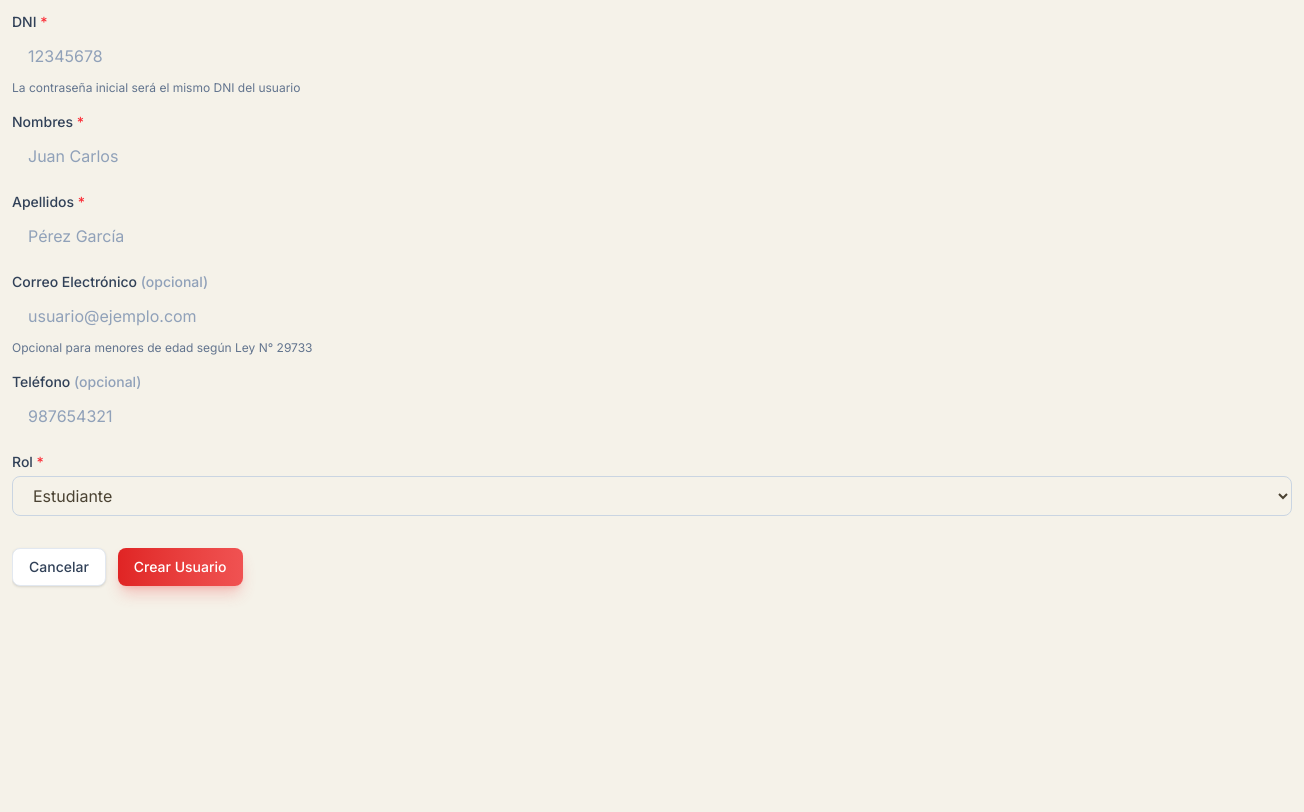
Test: UserForm Component › should validate phone with 9 digits
// Teléfono inválido
Type "12345" into the field labelled "Teléfono (opcional)" at (652, 416), box 12,396 -> 1292,436
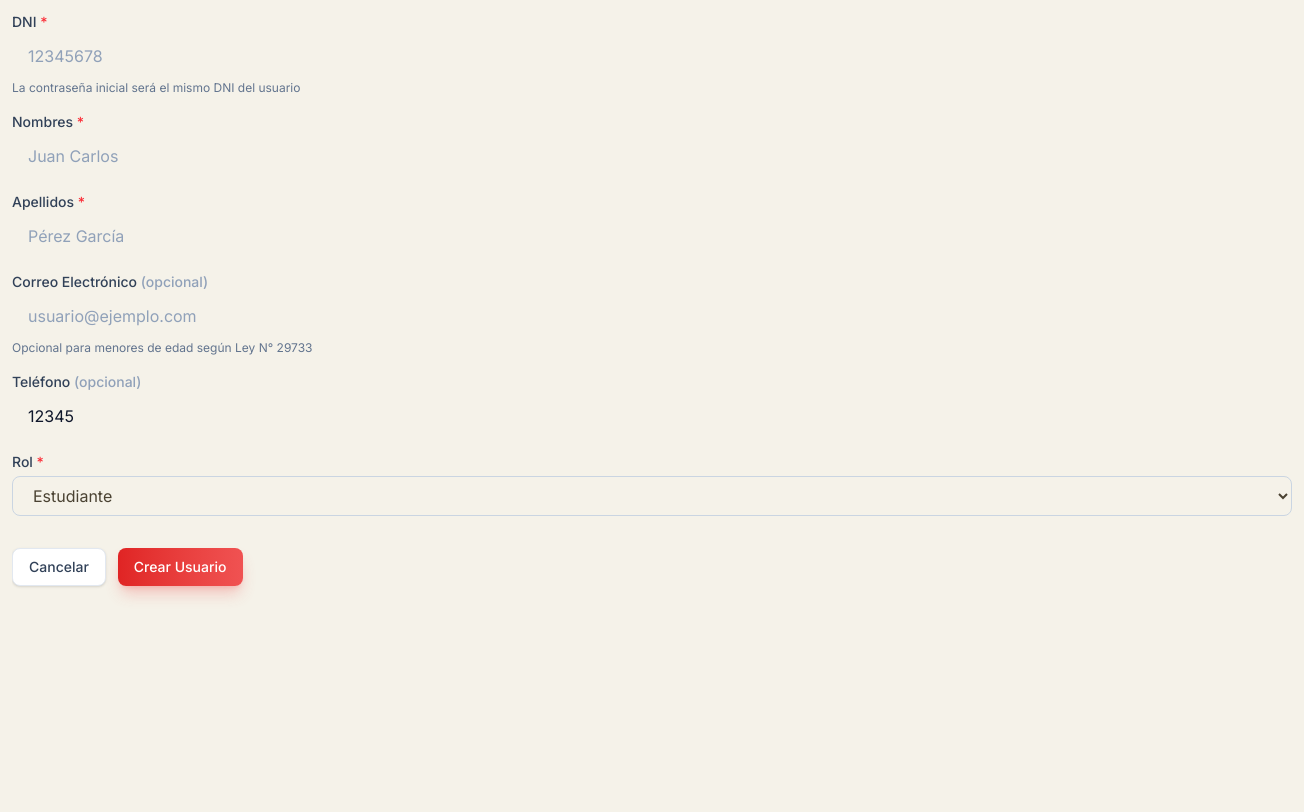
Click the button "Crear Usuario" at (180, 567), box 118,548 -> 242,586
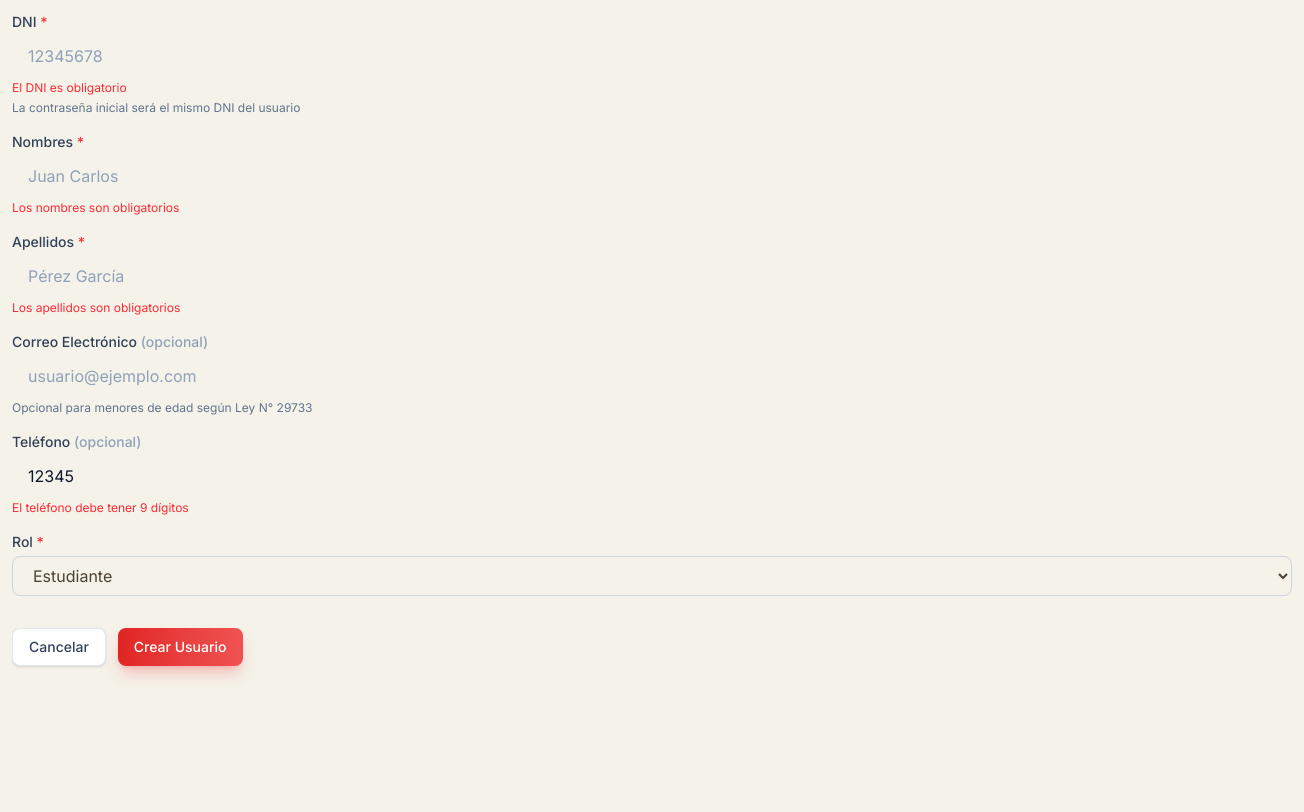
Now the text "El teléfono debe tener 9 dígitos" is shown, box 12,500 -> 189,515
